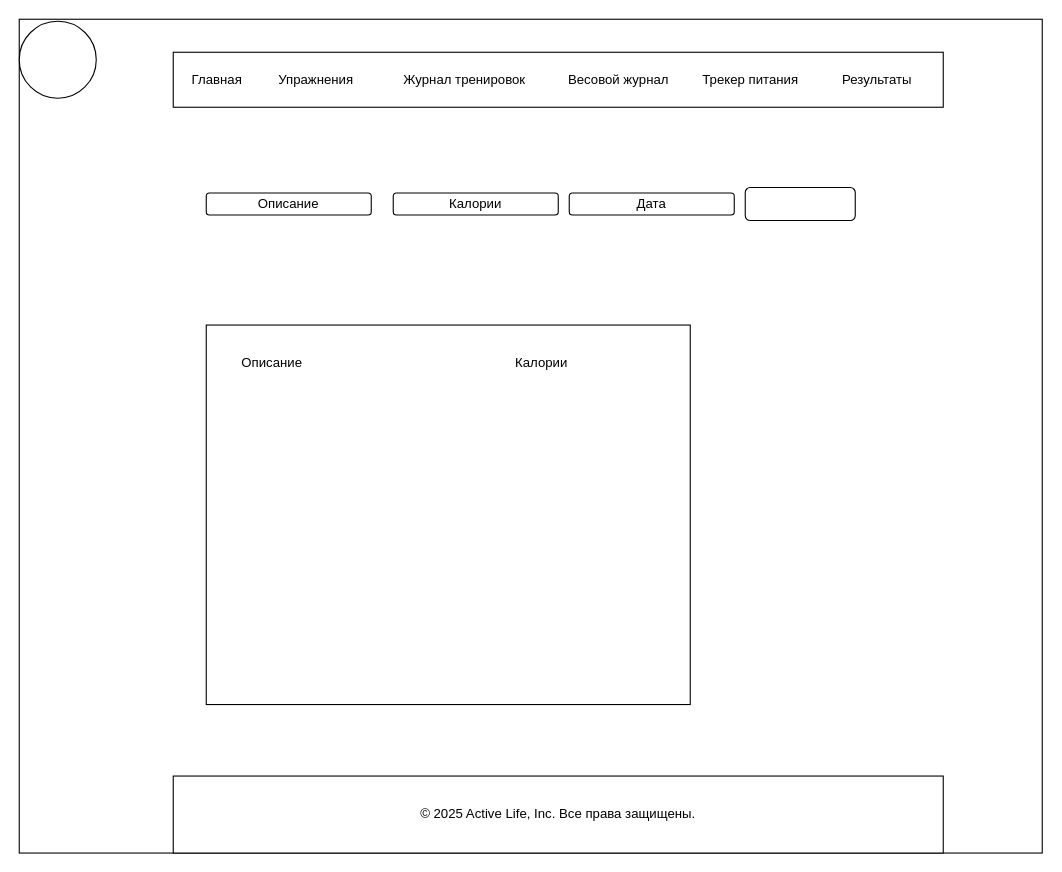
This 1062x872 diagram has some shape labels left out. The box of each missing label's shape, as (x1, y1, x2, y2) in pixels:
Записать: (744, 186, 855, 221)
Логотип: (18, 20, 96, 98)
